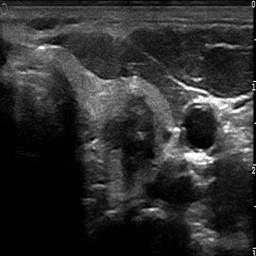mass: (103, 97, 157, 178)
